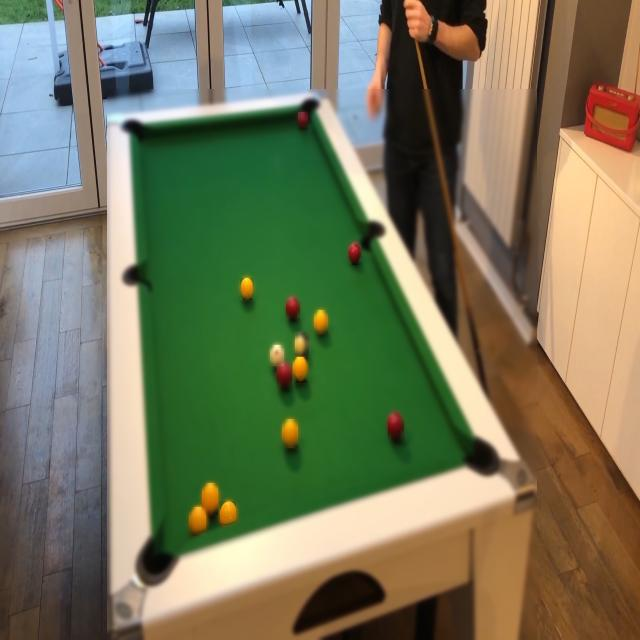Ball: (202, 483, 218, 515), (189, 507, 206, 536), (282, 419, 298, 448), (388, 411, 404, 440), (277, 362, 292, 388), (220, 501, 236, 525), (293, 358, 308, 383), (314, 310, 328, 334), (286, 297, 300, 321), (295, 332, 309, 356), (240, 278, 254, 300), (270, 345, 284, 366), (349, 242, 361, 265), (298, 112, 308, 130)
Billiard table: (107, 89, 537, 640)
